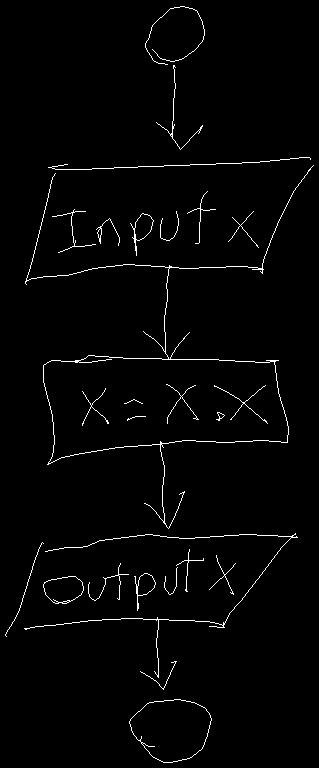arrow: (143, 265, 189, 359), (156, 65, 202, 149), (144, 441, 184, 528), (140, 617, 176, 689)
connection: (129, 699, 211, 762), (145, 6, 204, 64)
data: (25, 157, 313, 284), (5, 533, 297, 636)
process: (43, 355, 288, 464)
text: (52, 191, 258, 255), (43, 549, 235, 610), (82, 384, 267, 425)
